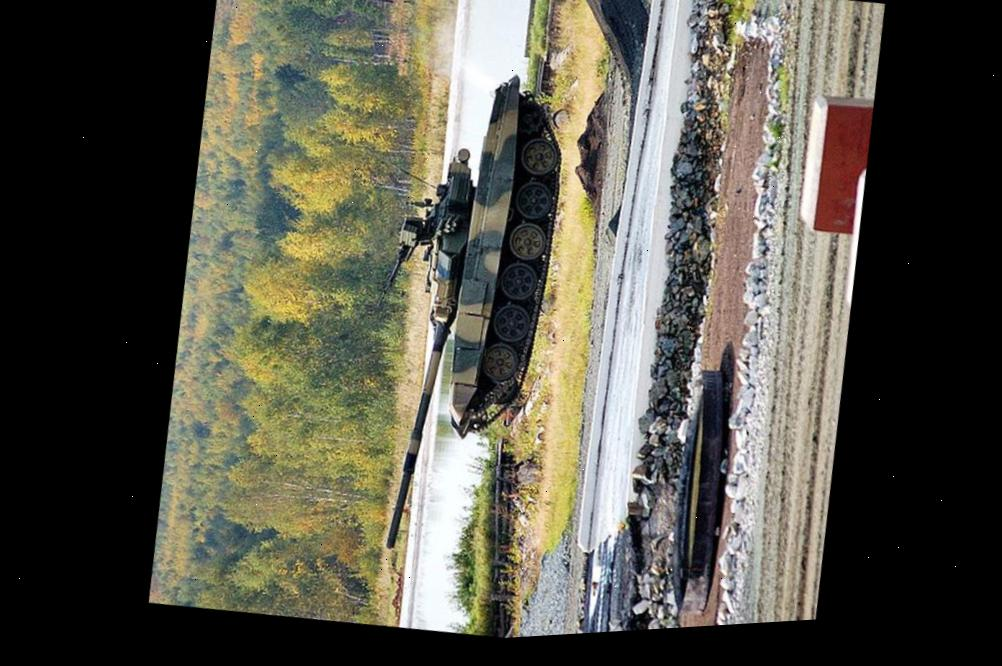tank: (331, 56, 592, 572)
